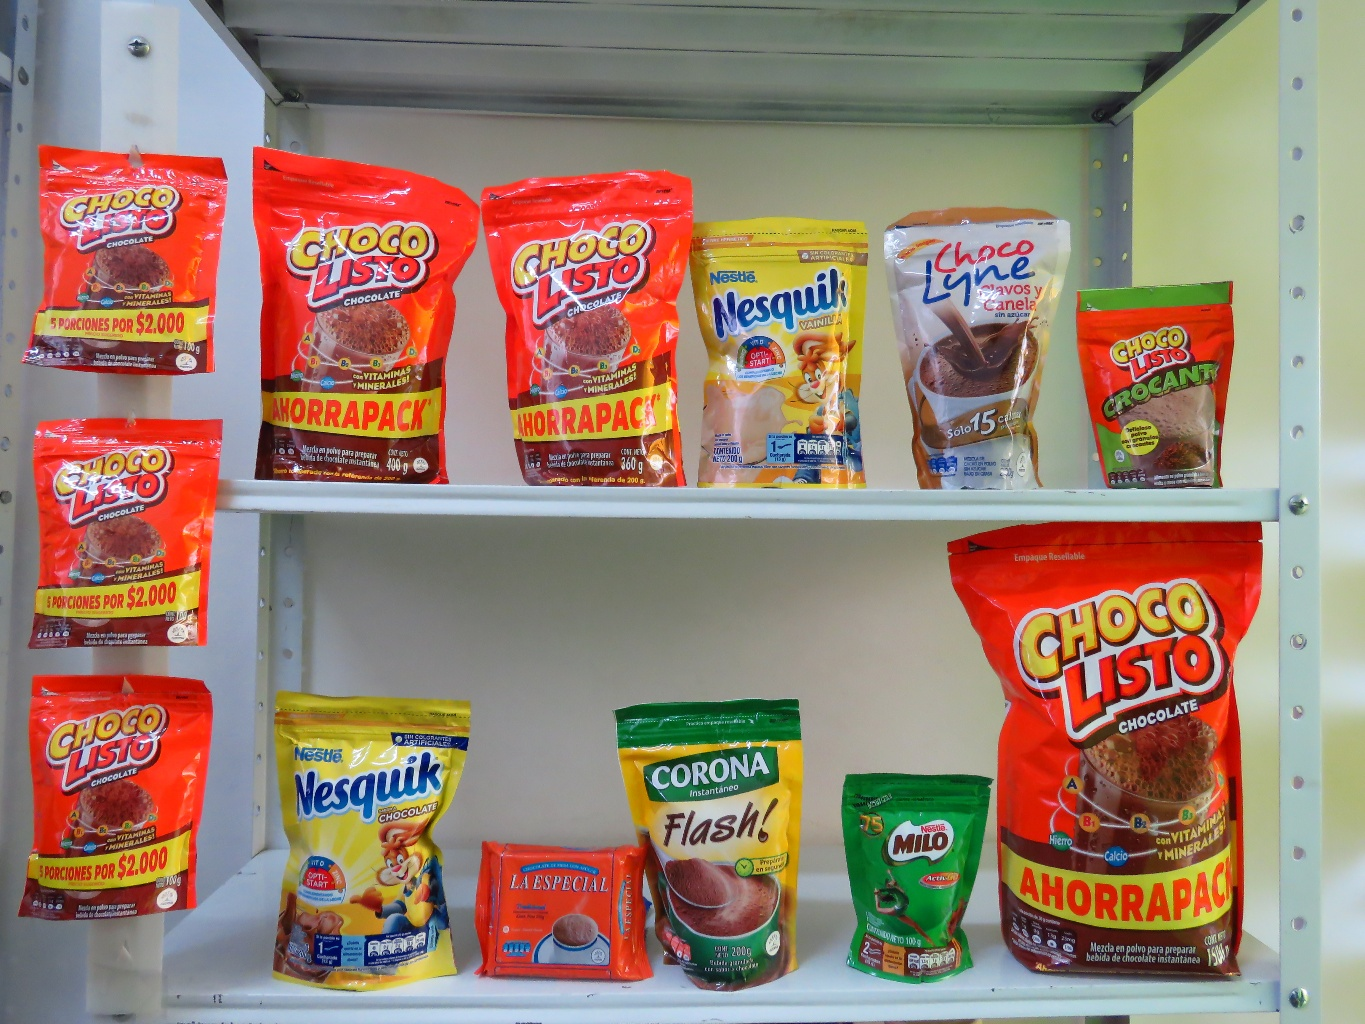COL0170102DYP10000: (1070, 274, 1239, 490)
COL0170103DYP1,500: (950, 513, 1282, 991)
COL0170103DYP10000: (16, 674, 226, 920)
COL0170103DYP36000: (484, 165, 694, 485)
COL0170103DYP40000: (253, 137, 498, 480)
COL0170203DYP10000: (840, 770, 1005, 977)
COL0170303DYP20000: (268, 677, 488, 989)
COL0170306DYP20000: (684, 215, 878, 490)
